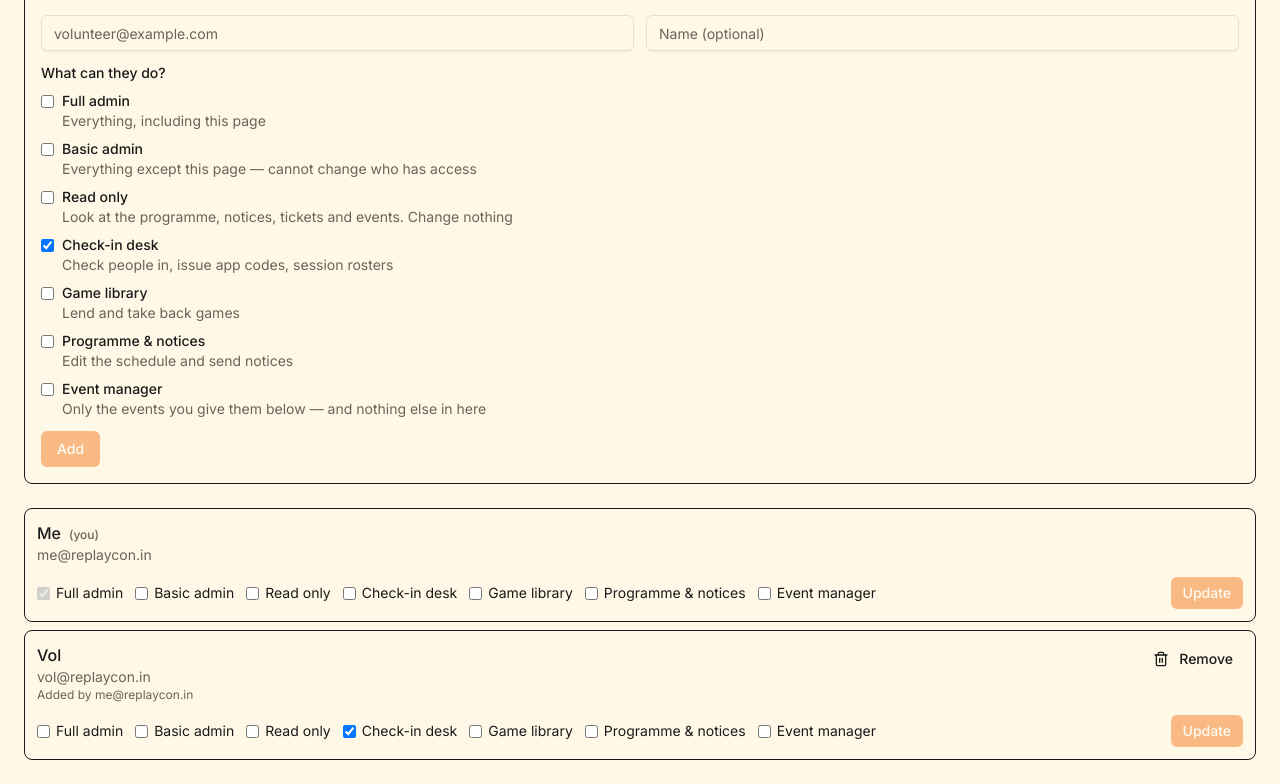
Test: the update button › stays disabled when the edits cancel out
(page scrolled)
Expected: the text "Vol" is shown, [37,645,61,665]
Click the 2nd checkbox labelled "Game library" at (476, 731), box [469,724,482,738]
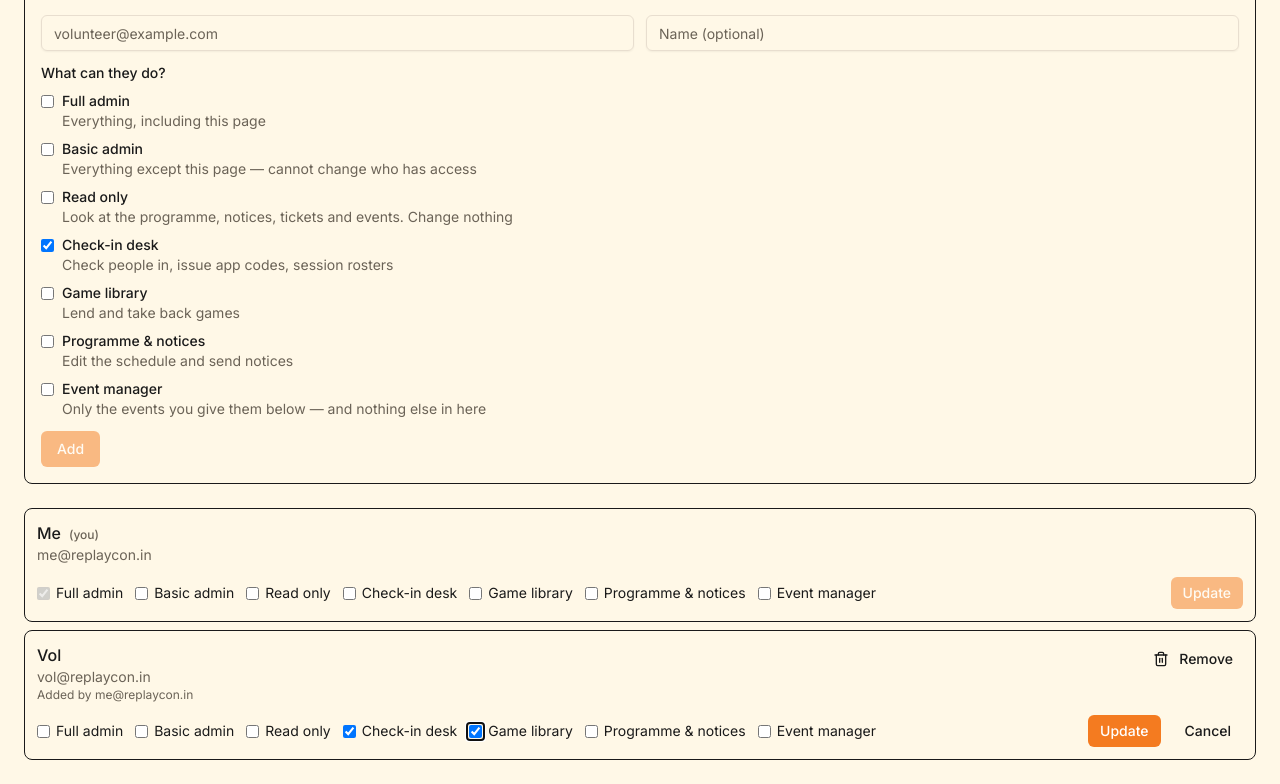
Click the 2nd checkbox labelled "Game library" at (476, 731), box [469,724,482,738]
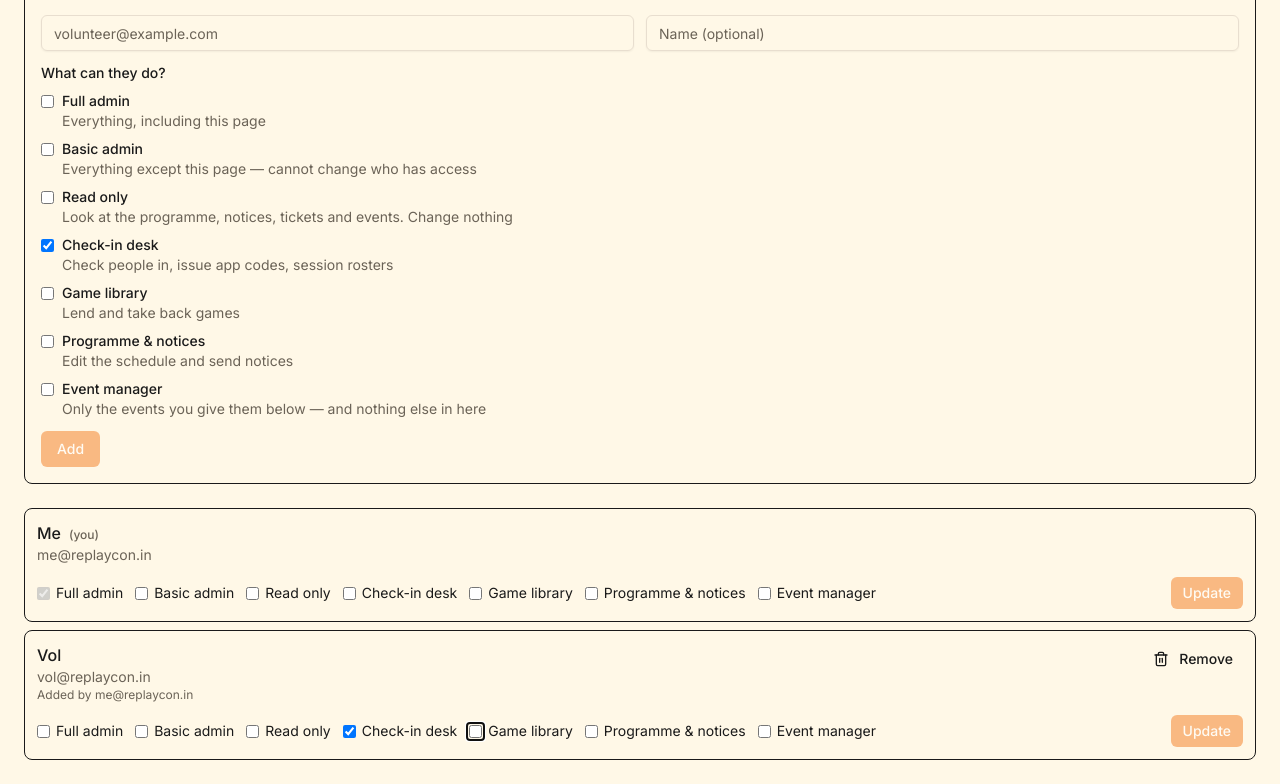
Now the 2nd button "Update" is disabled, box [1170,715,1243,747]
